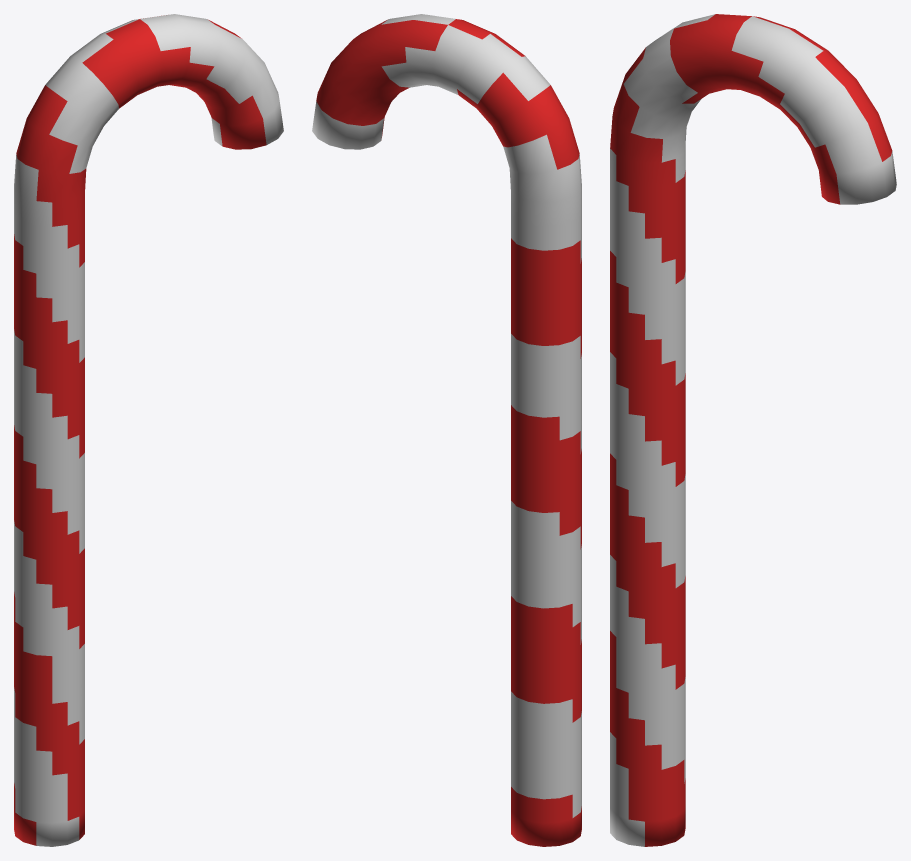
File: candycane.glb
The picture shows the model from 3 angles, left to right: view 1: azimuth 30°, elevation 25°; view 2: azimuth 150°, elevation 25°; view 3: azimuth 330°, elevation 25°; orthographic projection. The views are drawn at different scales.
Parts seen in each view (by area): view 1: Candycane; view 2: Candycane; view 3: Candycane.
Part boxes in pixels (<box>): Candycane: <box>14,14,283,846</box>; Candycane: <box>312,14,581,846</box>; Candycane: <box>610,14,896,846</box>.
Bounding box in the file's own units: 4.17 × 12.09 × 1.
